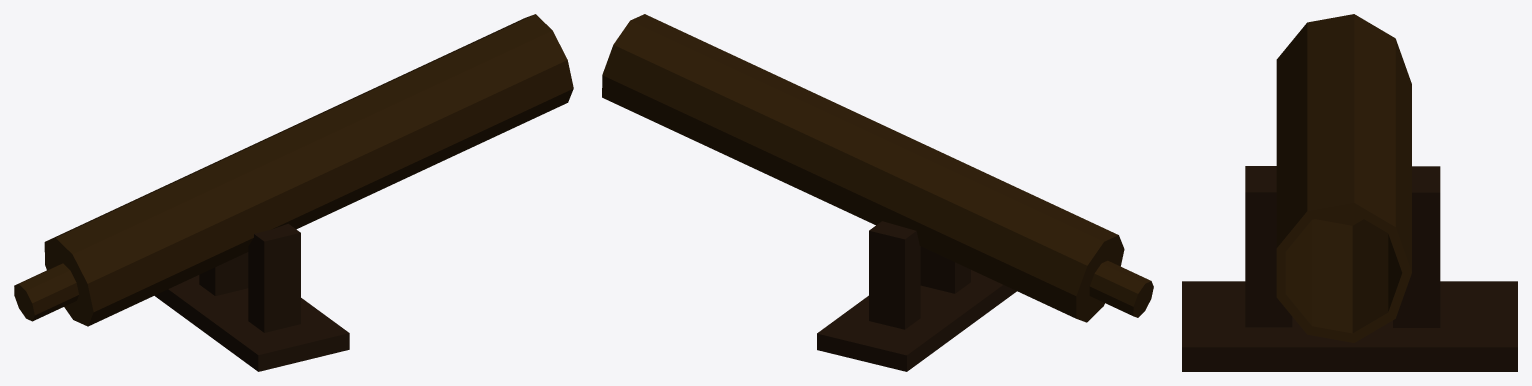
The model's file is PotatoGun.fbx.
3 views of the same model, side by side, from view 1: azimuth 30°, elevation 25°; view 2: azimuth 150°, elevation 25°; view 3: azimuth 270°, elevation 25° (orthographic). The views are drawn at different scales.
Parts seen in each view (by area): view 1: Cylinder, Cube.002, Cube, Cube.001; view 2: Cylinder, Cube.002, Cube.001, Cube; view 3: Cylinder, Cube.002, Cube, Cube.001.
Part boxes in pixels (x1=…): Cylinder: x1=14, y1=14, x2=573, y2=326; Cube.002: x1=154, y1=275, x2=349, y2=371; Cube: x1=248, y1=223, x2=300, y2=332; Cube.001: x1=199, y1=252, x2=248, y2=295; Cylinder: x1=602, y1=14, x2=1153, y2=322; Cube.002: x1=817, y1=270, x2=1016, y2=371; Cube.001: x1=869, y1=221, x2=920, y2=329; Cube: x1=920, y1=246, x2=970, y2=293; Cylinder: x1=1276, y1=14, x2=1411, y2=342; Cube.002: x1=1182, y1=281, x2=1517, y2=371; Cube: x1=1245, y1=166, x2=1292, y2=327; Cube.001: x1=1393, y1=166, x2=1440, y2=327.
Size of the model in its own units: 1178 by 490 by 431.
